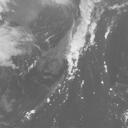cyclone: (39, 41, 86, 81)
